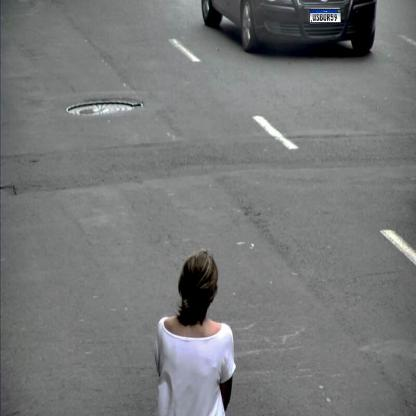PlacaM: (310, 9, 341, 23)
